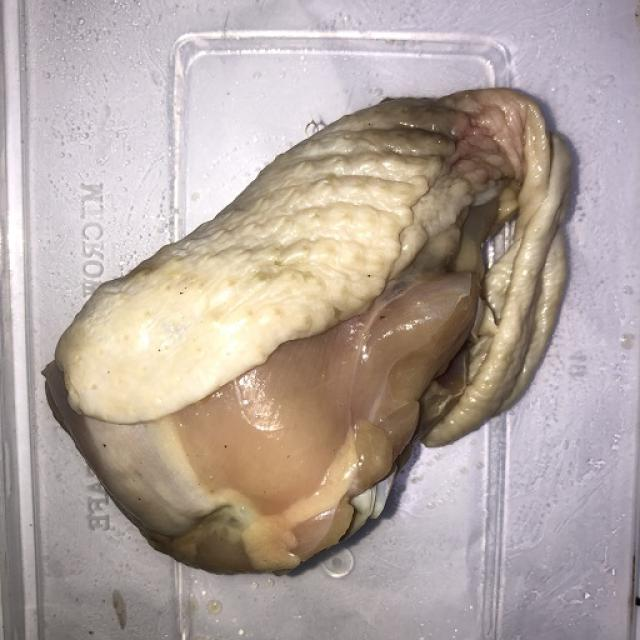Wet Waste: (31, 66, 595, 591)
